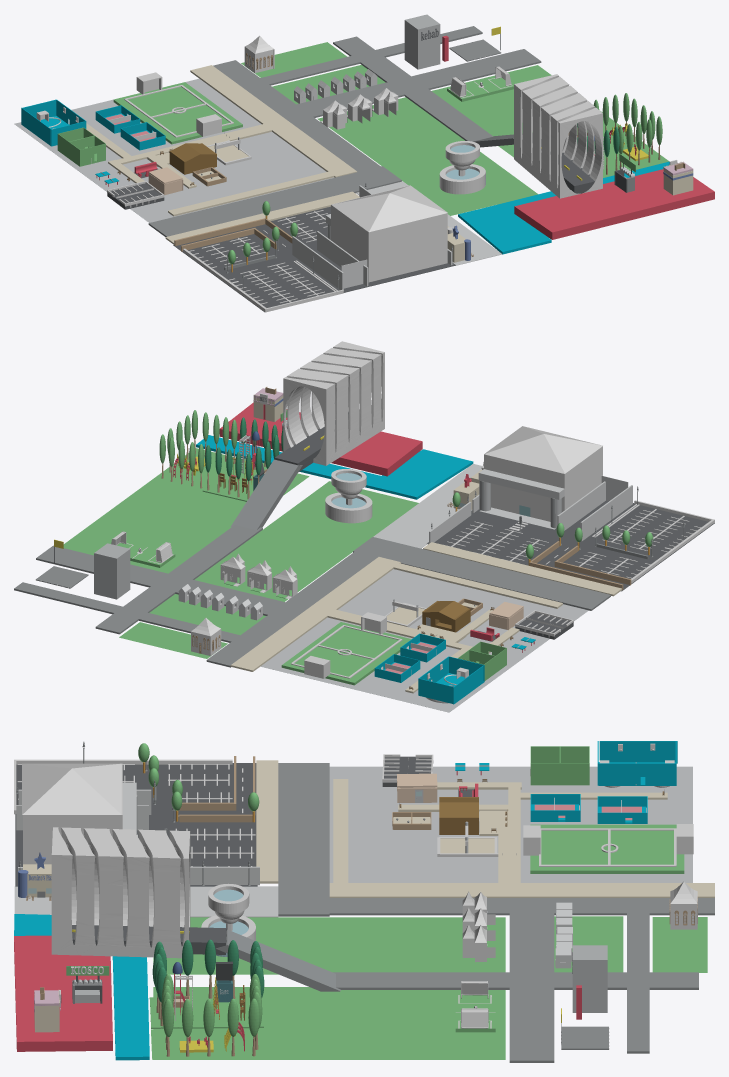
File: Ciudad.glb
The picture shows the model from 3 angles, top to bottom: view 1: azimuth 30°, elevation 25°; view 2: azimuth 150°, elevation 25°; view 3: azimuth 270°, elevation 25°; orthographic projection. The views are drawn at different scales.
Visible parts, largest first — view 1: Mesh_Mesh_head_geo.001_lambert2SG.001; view 2: Mesh_Mesh_head_geo.001_lambert2SG.001; view 3: Mesh_Mesh_head_geo.001_lambert2SG.001.
Boxes of the visible parts, box(x1,y1,x2,y2) form: Mesh_Mesh_head_geo.001_lambert2SG.001: box(14, 14, 714, 312); Mesh_Mesh_head_geo.001_lambert2SG.001: box(14, 341, 714, 712); Mesh_Mesh_head_geo.001_lambert2SG.001: box(14, 741, 714, 1062).
Bounding box in the file's own units: 0.1934 × 0.042 × 0.191.
